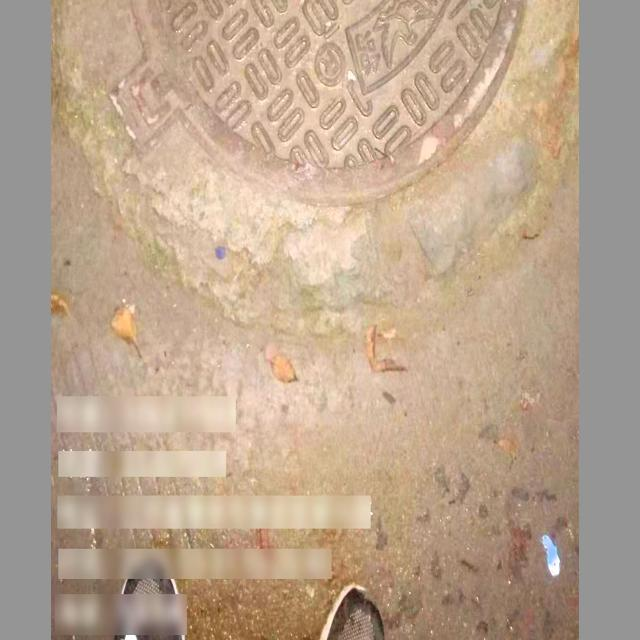good: (73, 0, 573, 291)
